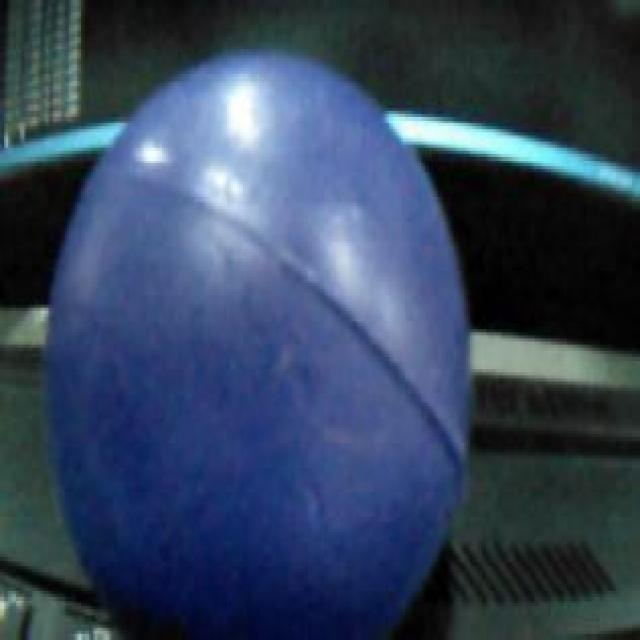BallPurple: (48, 45, 470, 637)
